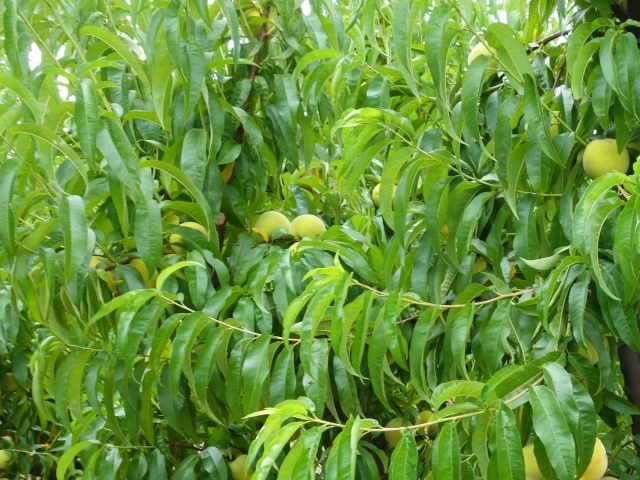peach: (579, 134, 633, 185), (166, 219, 213, 261), (251, 209, 292, 249), (283, 212, 328, 247), (381, 414, 416, 449), (370, 180, 399, 211)
